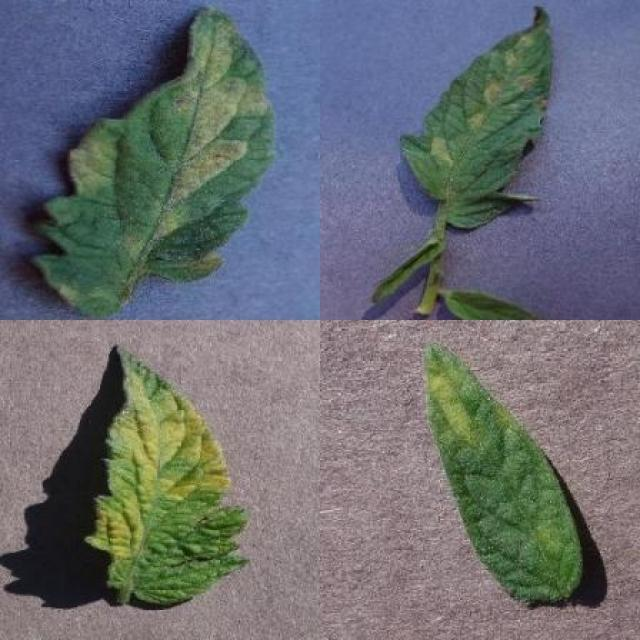Leaf Mold: (30, 5, 276, 321), (85, 345, 251, 608), (424, 341, 585, 606), (403, 4, 556, 229)
